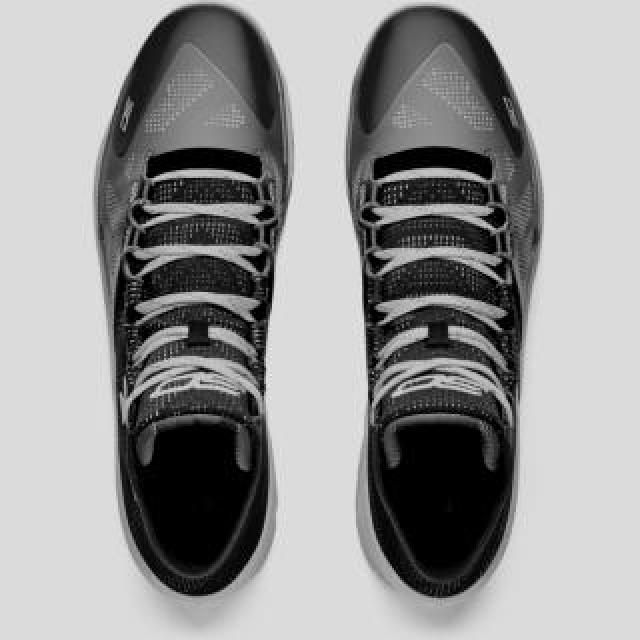shoe: (344, 0, 544, 604), (95, 1, 295, 603)
